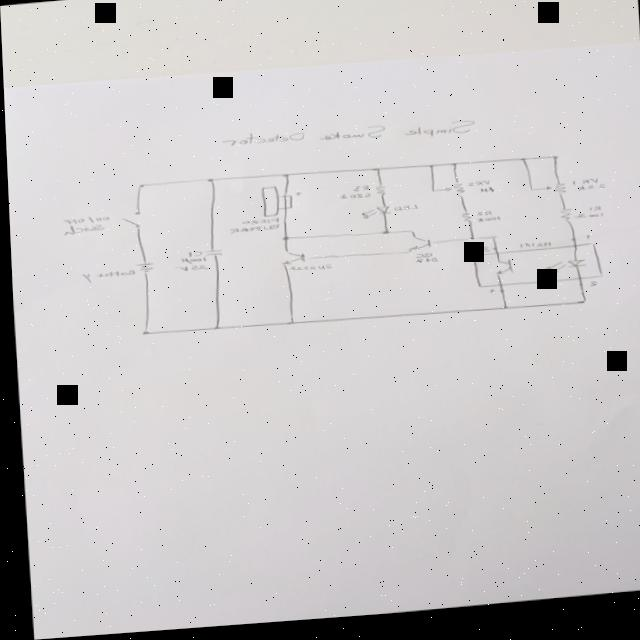capacitor: (201, 251, 221, 260)
diode: (358, 210, 390, 225)
junction: (137, 330, 150, 337), (574, 306, 585, 313), (463, 243, 475, 248), (378, 235, 389, 240), (135, 184, 144, 190), (283, 324, 293, 329), (279, 240, 289, 245), (205, 180, 214, 185), (209, 328, 220, 332), (448, 168, 456, 173), (279, 177, 289, 181), (497, 313, 507, 317), (426, 170, 434, 174), (517, 165, 525, 169), (550, 163, 558, 167), (488, 242, 496, 246), (373, 172, 380, 176), (428, 195, 434, 199), (526, 195, 532, 199), (408, 235, 413, 239), (405, 256, 409, 258)
resistor: (440, 188, 465, 205), (543, 190, 565, 203), (557, 215, 571, 230), (372, 189, 386, 202), (459, 218, 471, 230)
source: (132, 263, 152, 276)
switch: (118, 212, 141, 232)
text: (219, 118, 475, 159), (78, 269, 135, 285), (60, 223, 104, 237), (226, 227, 278, 238), (61, 215, 110, 226), (285, 267, 332, 277), (239, 220, 278, 229), (515, 248, 551, 257), (173, 266, 207, 275), (338, 196, 370, 205), (177, 258, 205, 268), (574, 192, 604, 201), (572, 219, 602, 228), (569, 186, 597, 194), (391, 209, 417, 217), (464, 186, 489, 194), (474, 222, 499, 229), (412, 263, 437, 270), (413, 257, 431, 265), (350, 190, 368, 197), (476, 193, 494, 200), (185, 253, 201, 260), (473, 217, 491, 223), (585, 214, 599, 220), (478, 252, 490, 259), (585, 289, 595, 296), (485, 294, 493, 301), (582, 242, 590, 248)
transistor: (277, 251, 309, 270), (405, 241, 430, 256)
